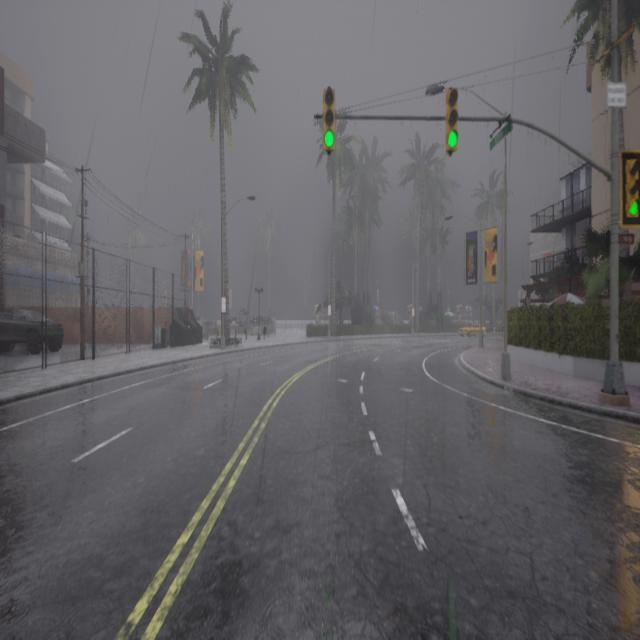bien_chi_dan: (622, 153, 640, 226), (322, 86, 336, 156), (445, 89, 459, 154), (626, 196, 640, 220), (323, 128, 335, 152), (446, 130, 458, 149)
